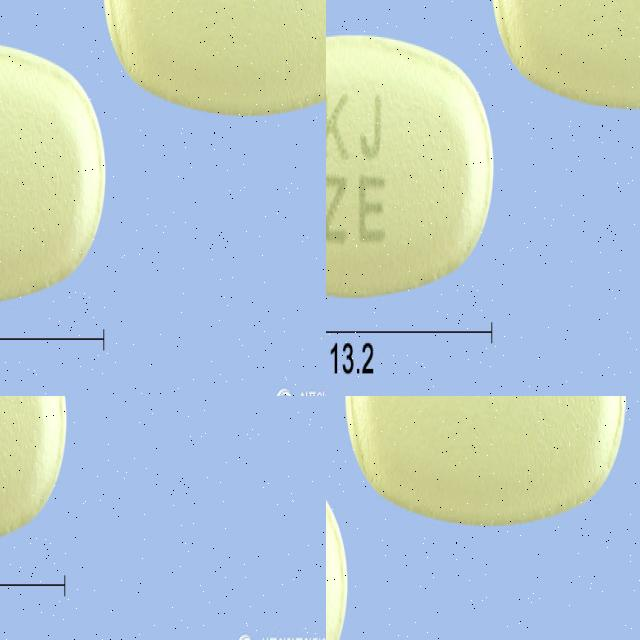Durova: (16, 141, 155, 396)
Immuthera: (68, 396, 315, 555)
Lathrocin: (326, 22, 503, 295), (482, 0, 640, 108)
Zeffix Tab: (345, 396, 625, 526)
